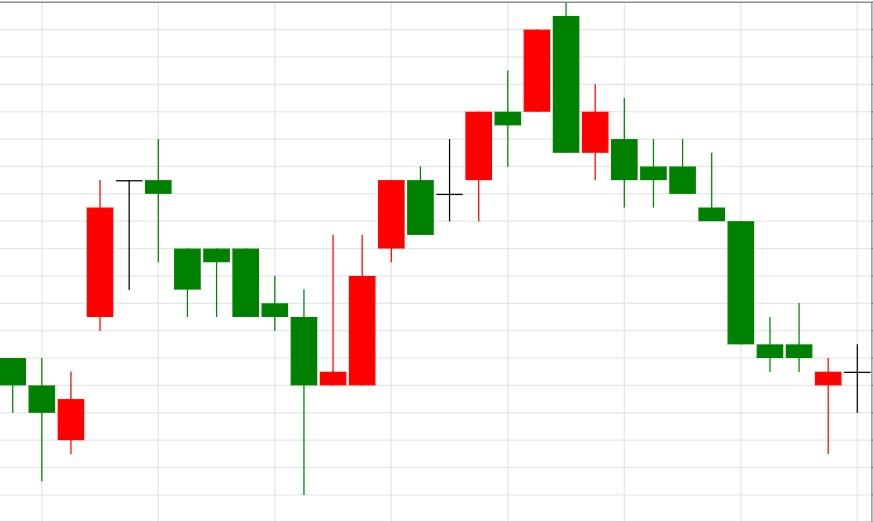bearish_engulfing_fall: (290, 2, 580, 494)
